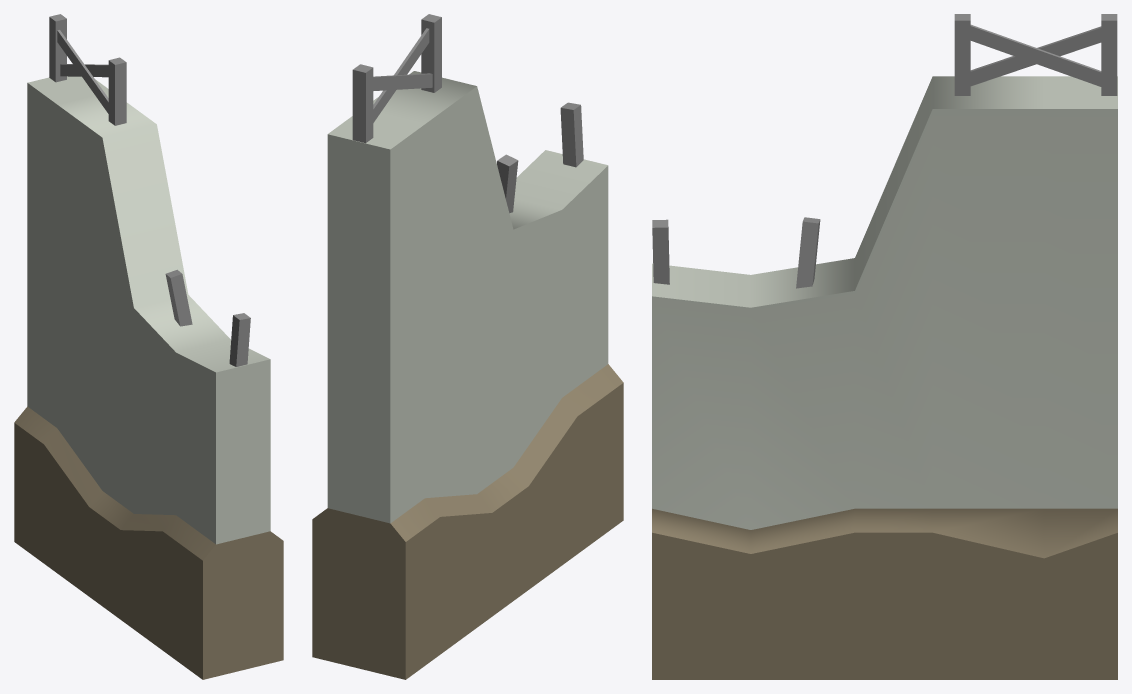
Rendered from SM_wall_perimeter_D.fbx.
3 views of the same model, side by side, from view 1: azimuth 30°, elevation 25°; view 2: azimuth 150°, elevation 25°; view 3: azimuth 270°, elevation 25° (orthographic). The views are drawn at different scales.
Visible parts, largest first — view 1: pCube83; view 2: pCube83; view 3: pCube83.
Boxes of the visible parts, x1,y1,x2,y2 form: pCube83: (14,14,283,679); pCube83: (312,14,623,679); pCube83: (652,14,1117,679).
Bounding box in the file's own units: 74.29 × 453 × 300.
